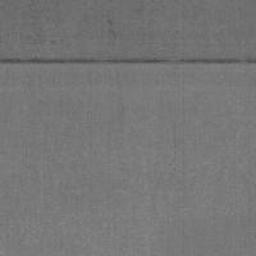Welding line: (0, 56, 256, 65)
